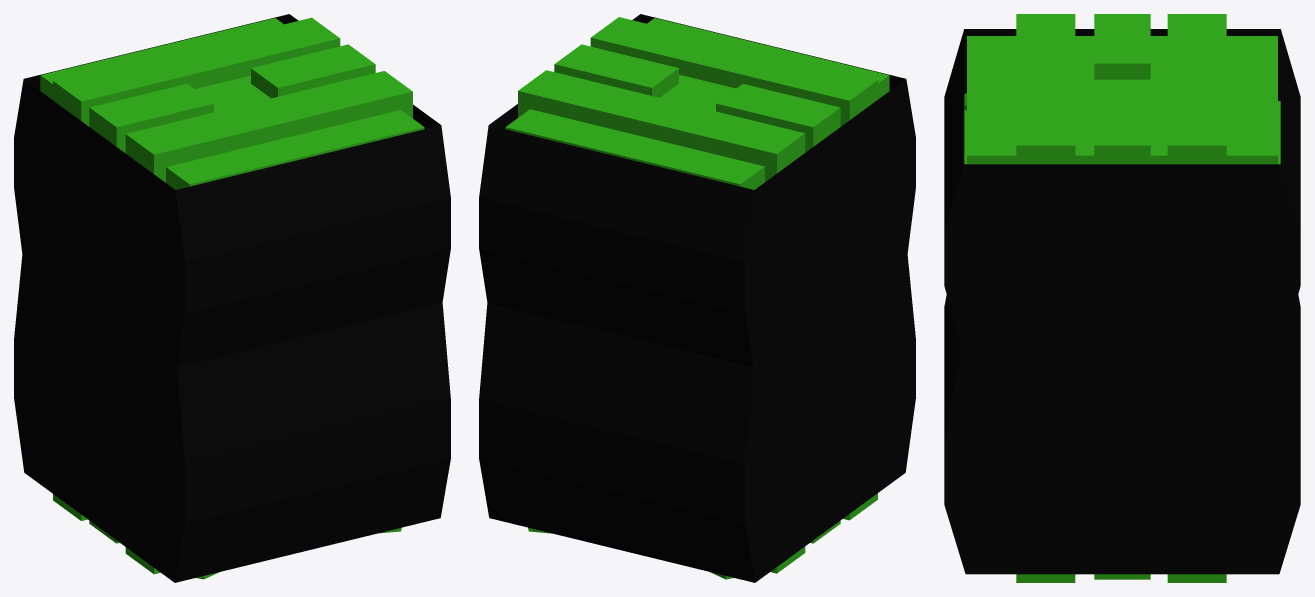
File: SM_dishwasher1.fbx
3 views of the same model, side by side, from view 1: azimuth 30°, elevation 25°; view 2: azimuth 150°, elevation 25°; view 3: azimuth 270°, elevation 25° (orthographic). The views are drawn at different scales.
Parts seen in each view (by area): view 1: dishwasher1; view 2: dishwasher1; view 3: dishwasher1.
Part boxes in pixels (box(x1,y1,x2,y2)): dishwasher1: box(14, 14, 450, 582); dishwasher1: box(479, 14, 915, 582); dishwasher1: box(944, 14, 1300, 582).
Bounding box in the file's own units: 56.6 × 85.37 × 63.05.
